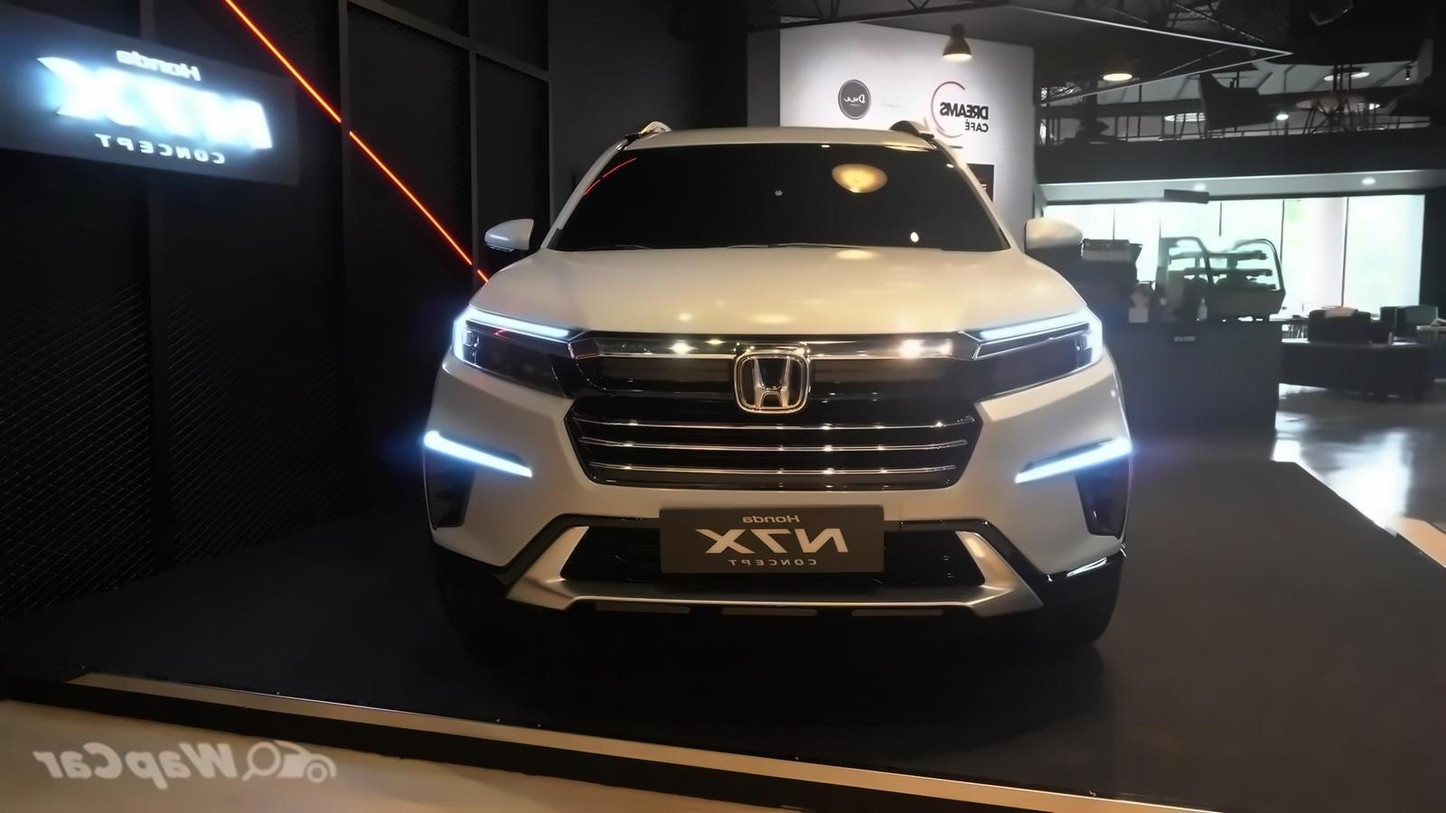Car hood: (457, 242, 1108, 337)
Front bumper: (410, 347, 1139, 626)
Headlight - -L-: (956, 310, 1147, 419)
Headlight - -R-: (434, 298, 635, 414)
Side mirror - -L-: (1003, 204, 1100, 269)
Side mirror - -R-: (466, 206, 555, 267)
